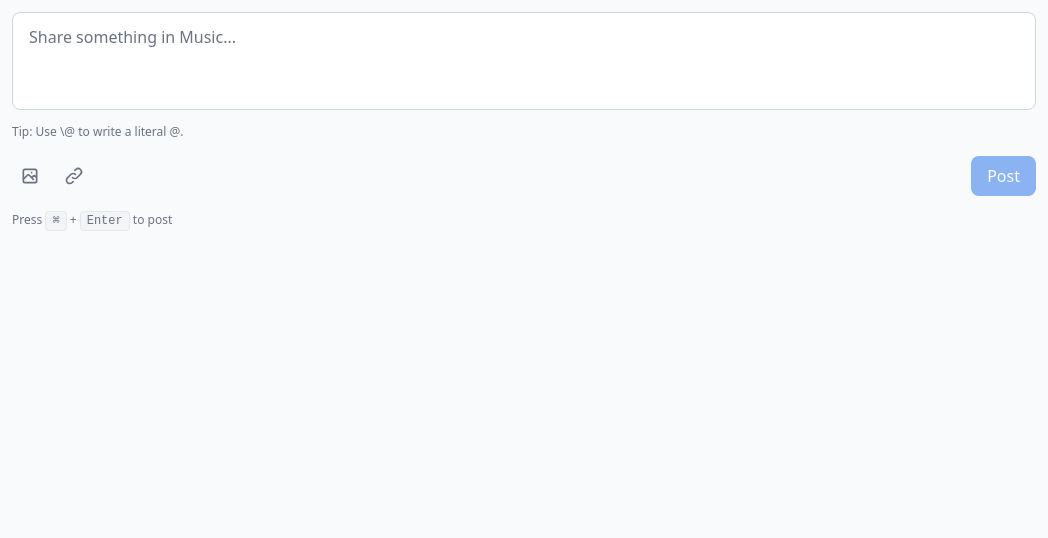
Test case: PostForm › detects a link and renders preview
In the text box named "Post content": (524, 61) [12, 12, 1036, 110], type "Check https://example.com"
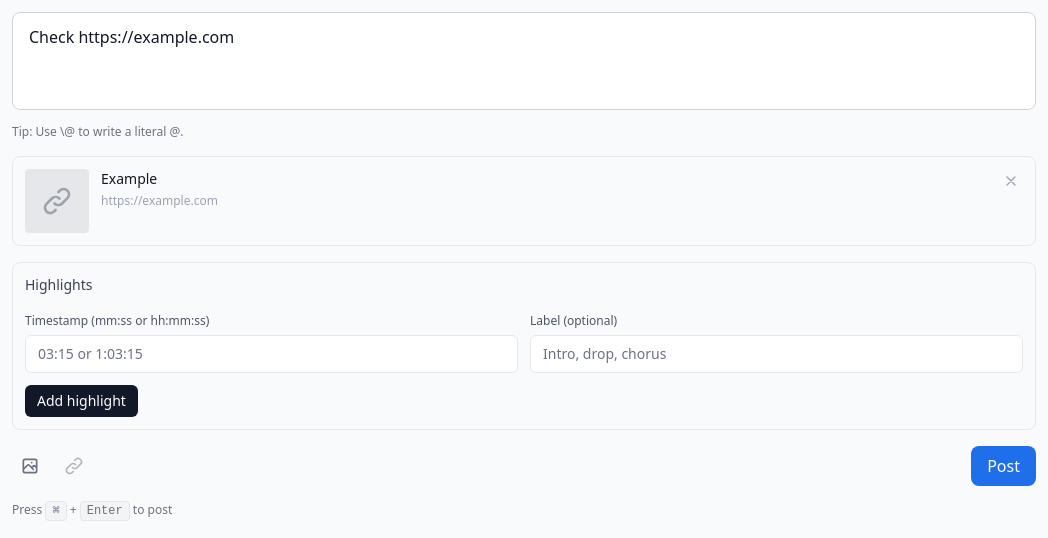
Expected: the heading "Example" is shown, [101, 169, 157, 188]
